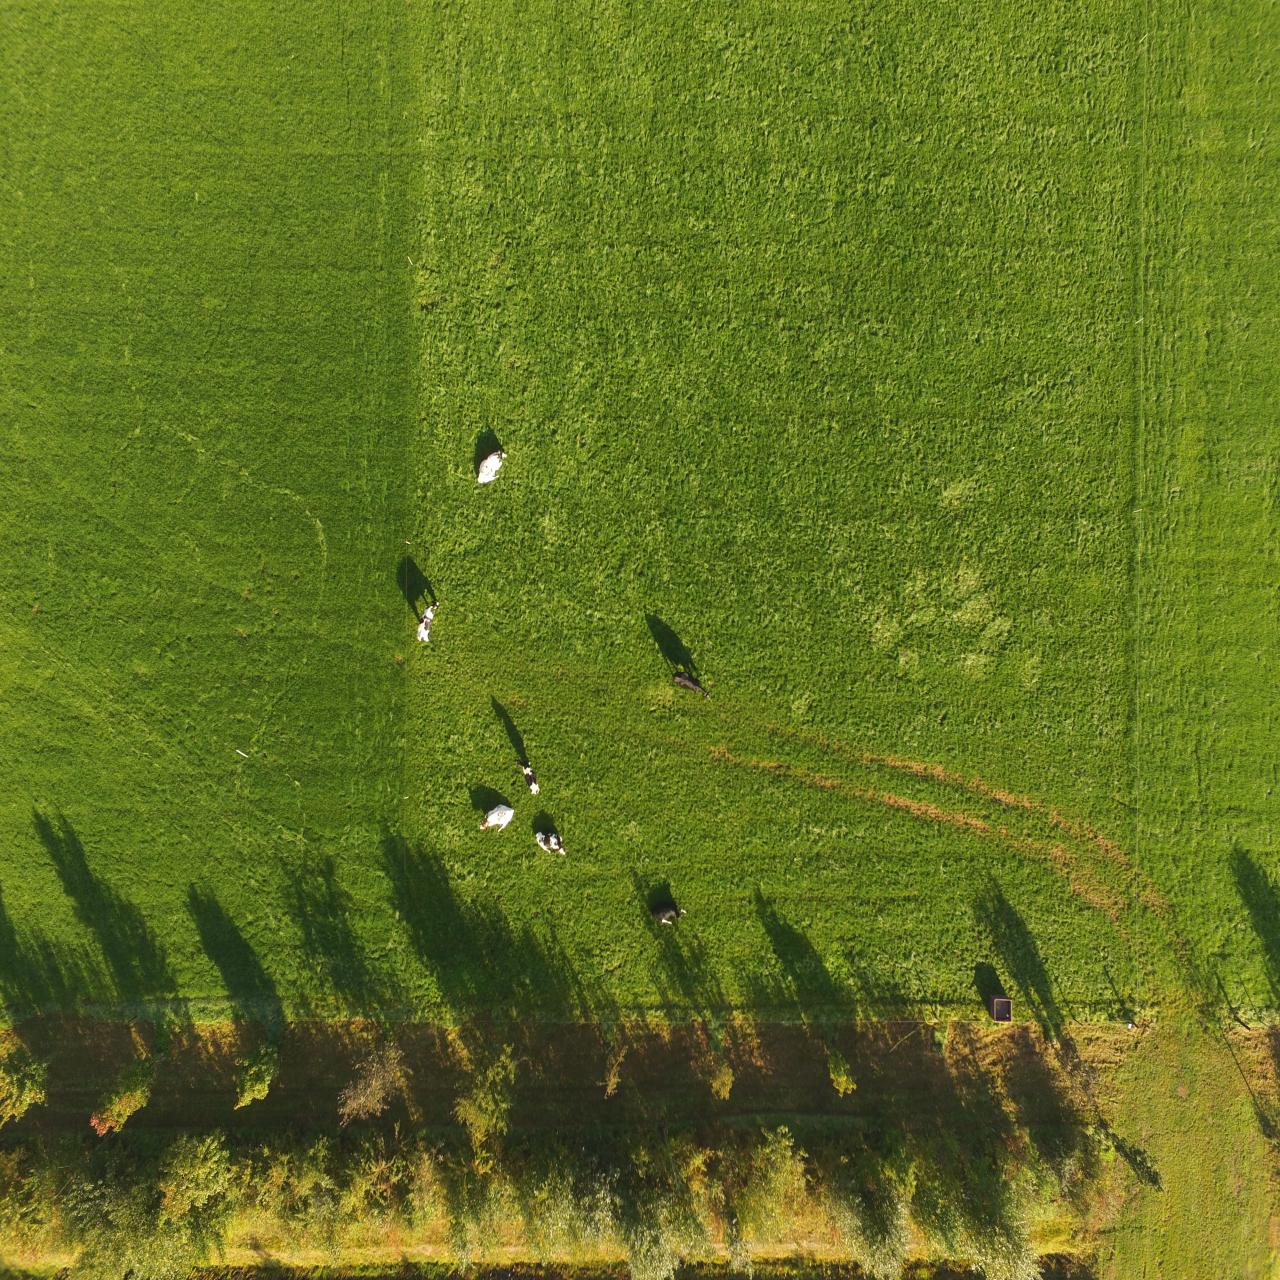cow: (663, 652, 719, 713), (472, 440, 512, 501), (411, 587, 443, 660), (532, 816, 568, 866), (479, 795, 517, 840), (652, 898, 694, 935), (516, 756, 542, 802)
